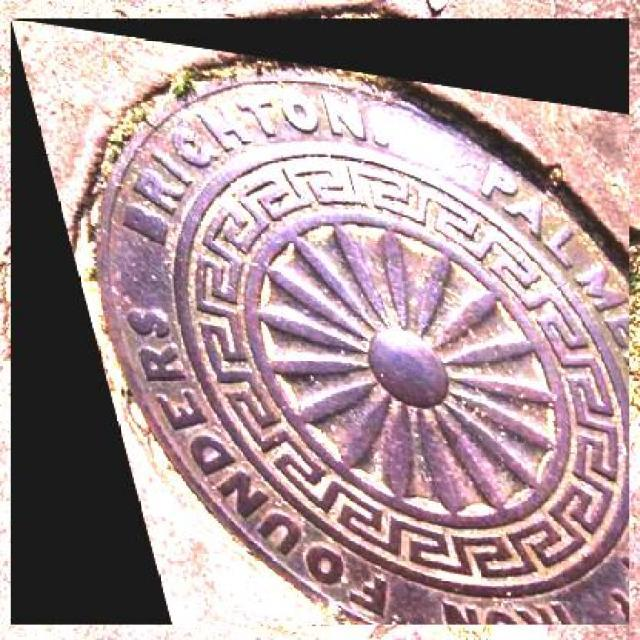Manhole: (13, 18, 632, 626)
